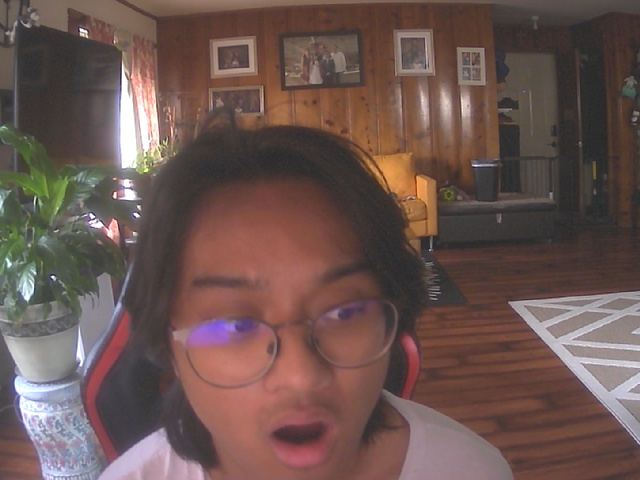fear: (144, 124, 428, 478)
